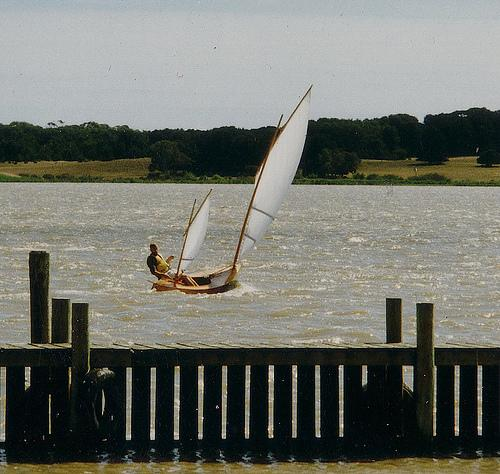Ship: (154, 89, 318, 295)
